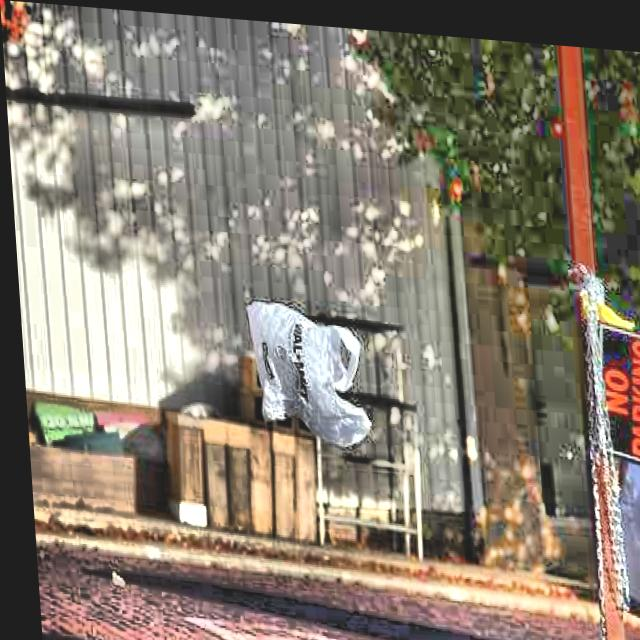Plastic: (235, 283, 366, 456)
